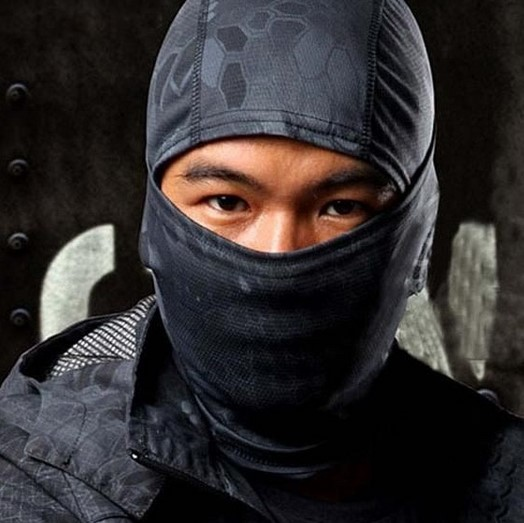face_with_mask: (143, 59, 421, 403)
